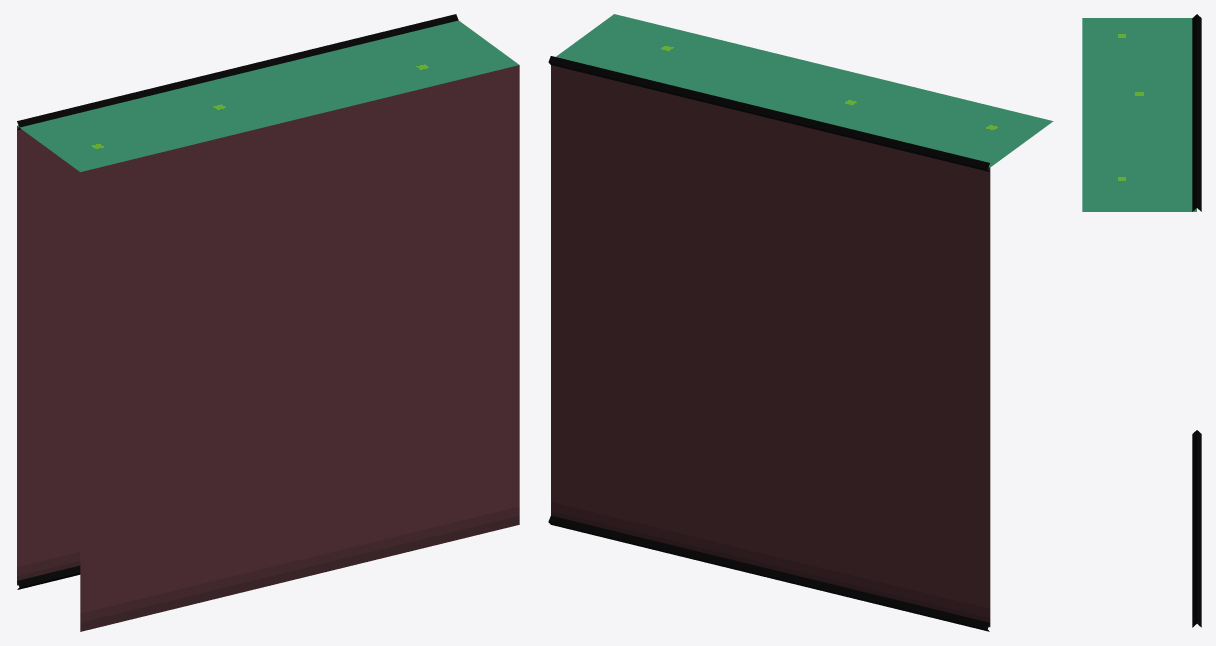
The model's file is Pit_Main_Top_Down_Center.glb.
The picture shows the model from 3 angles, left to right: view 1: azimuth 30°, elevation 25°; view 2: azimuth 150°, elevation 25°; view 3: azimuth 270°, elevation 25°; orthographic projection. The views are drawn at different scales.
Parts seen in each view (by area): view 1: Main_Top_Down_Center, Outline; view 2: Main_Top_Down_Center, Outline; view 3: Main_Top_Down_Center, Outline.
Boxes of the visible parts, bbox=[...] form: Main_Top_Down_Center: bbox=[17, 20, 519, 631]; Outline: bbox=[17, 14, 458, 589]; Main_Top_Down_Center: bbox=[551, 14, 1053, 627]; Outline: bbox=[548, 56, 989, 631]; Main_Top_Down_Center: bbox=[1082, 18, 1196, 211]; Outline: bbox=[1192, 14, 1201, 627].
Bounding box in the file's own units: 1 × 1.02 × 0.26.
3 materials, 2 textured.
